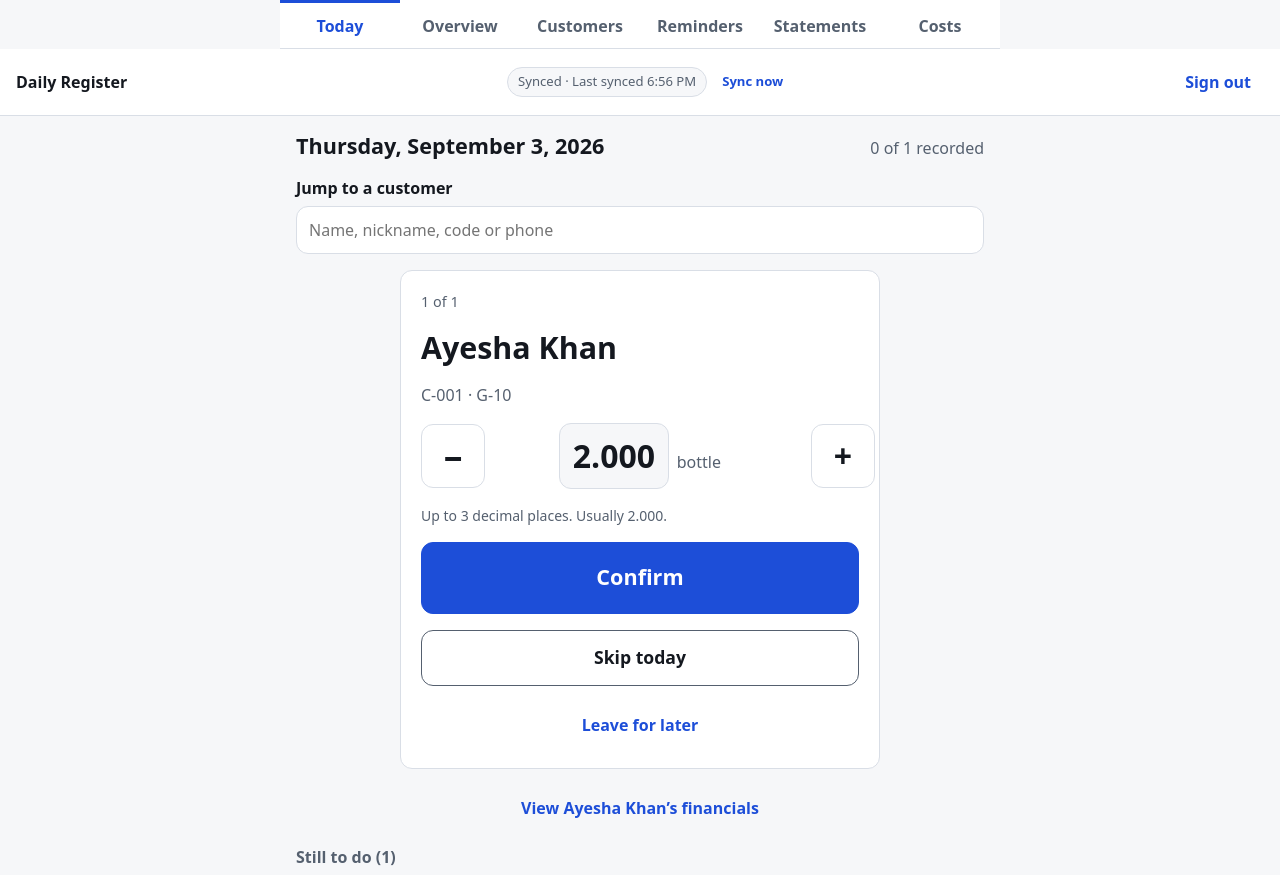
Scenario: confirming service › says recorded once the server has accepted it
expect the heading "Ayesha Khan" is shown: met, box [421,327,617,368]
Click the button "Confirm". click: (640,578)
box: [421,542,859,614]
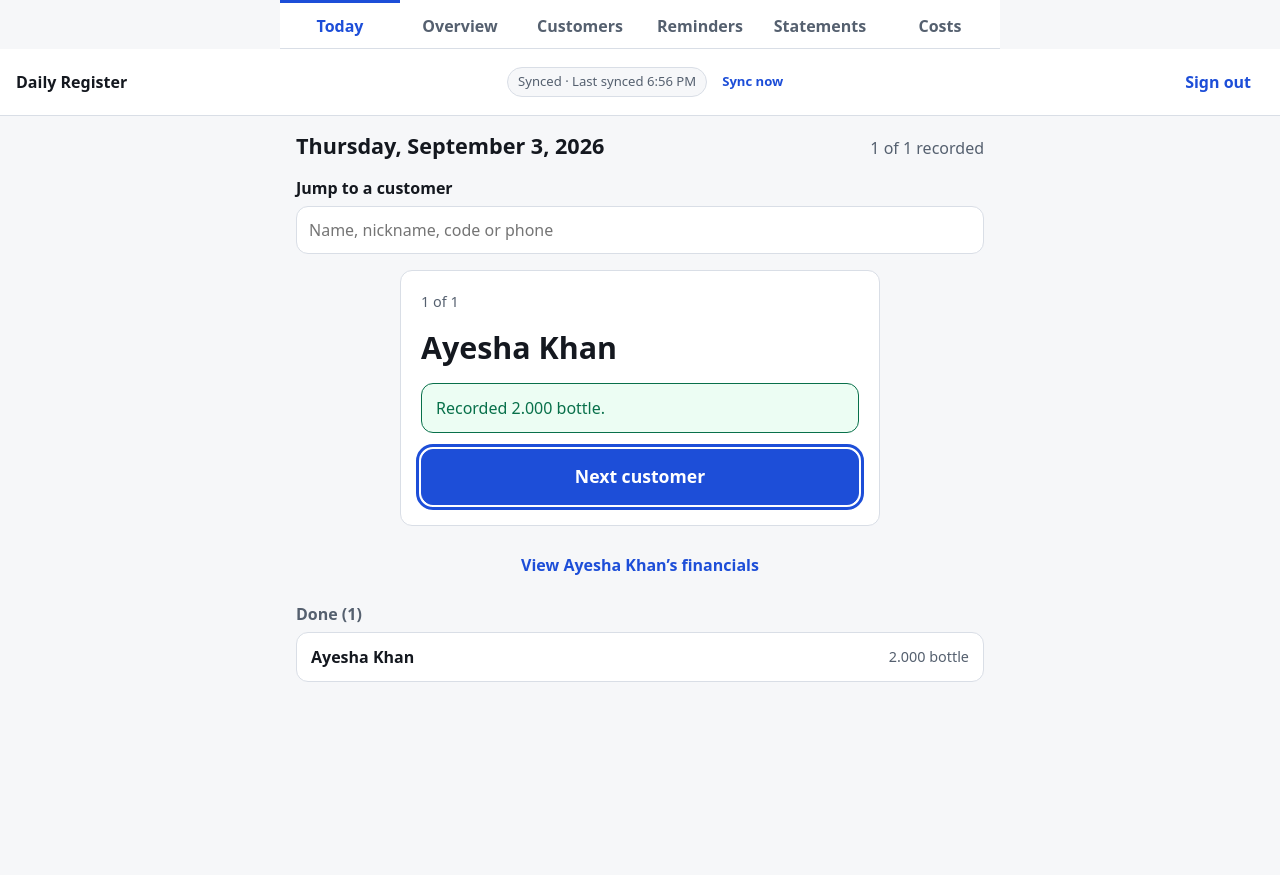
expect the text "Recorded 2.000 bottle." is shown: met, box [421,383,859,433]
